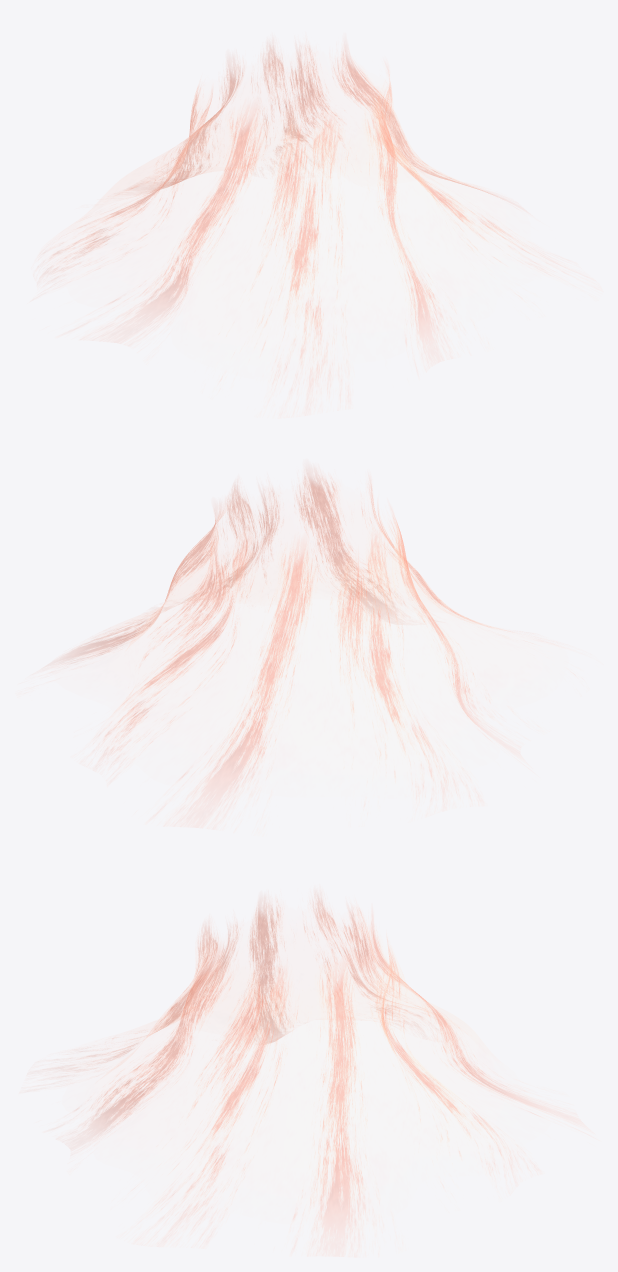
Rendered from devil_curtain.glb.
3 renders of one model, top to bottom at view 1: azimuth 30°, elevation 25°; view 2: azimuth 150°, elevation 25°; view 3: azimuth 270°, elevation 25°, orthographic.
Parts seen in each view (by area): view 1: devil_curtain; view 2: devil_curtain; view 3: devil_curtain.
Part boxes in pixels (x1=…): devil_curtain: x1=43, y1=44, x2=556, y2=391; devil_curtain: x1=54, y1=469, x2=512, y2=806; devil_curtain: x1=55, y1=894, x2=550, y2=1239.
Size of the model in its own units: 30.12 by 13 by 30.59.
Materials: 1 (1 with a texture image).
